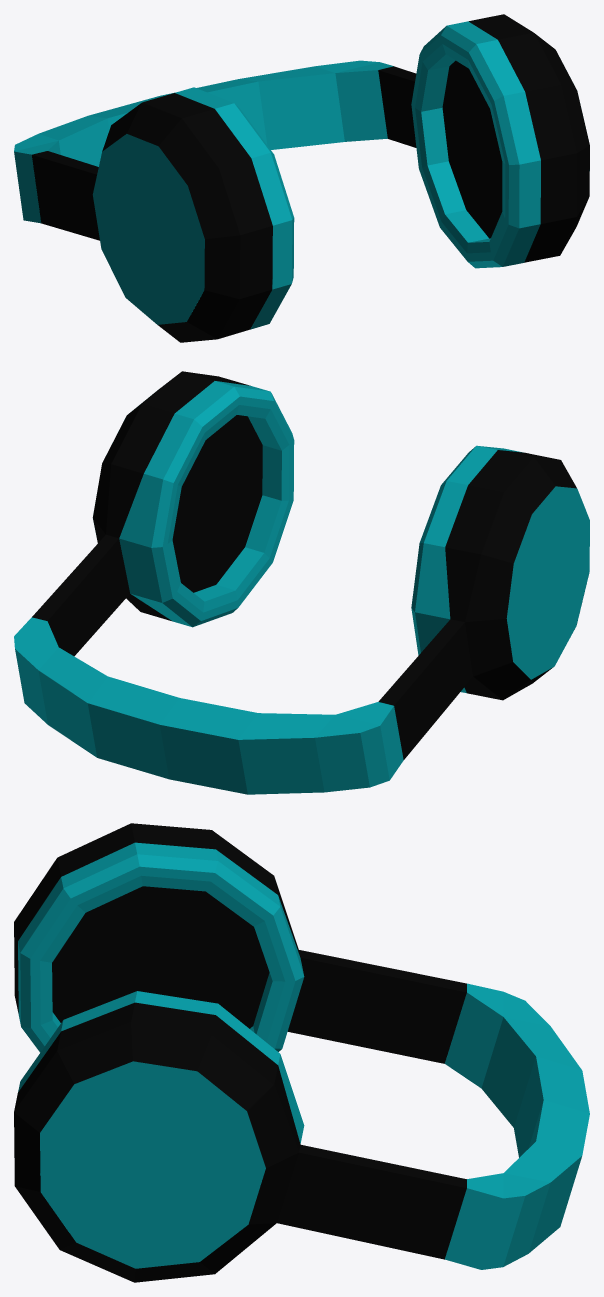
File: headphone.glb
3 views of the same model, one above another, from view 1: azimuth 30°, elevation 25°; view 2: azimuth 150°, elevation 25°; view 3: azimuth 270°, elevation 25° (orthographic). The views are drawn at different scales.
Visible parts, largest first — view 1: Object_22; view 2: Object_22; view 3: Object_22.
Part boxes in pixels (<box>): Object_22: <box>14,14,589,342</box>; Object_22: <box>14,371,589,794</box>; Object_22: <box>14,823,589,1282</box>.
Bounding box in the file's own units: 0.2811 × 0.1474 × 0.2927.
